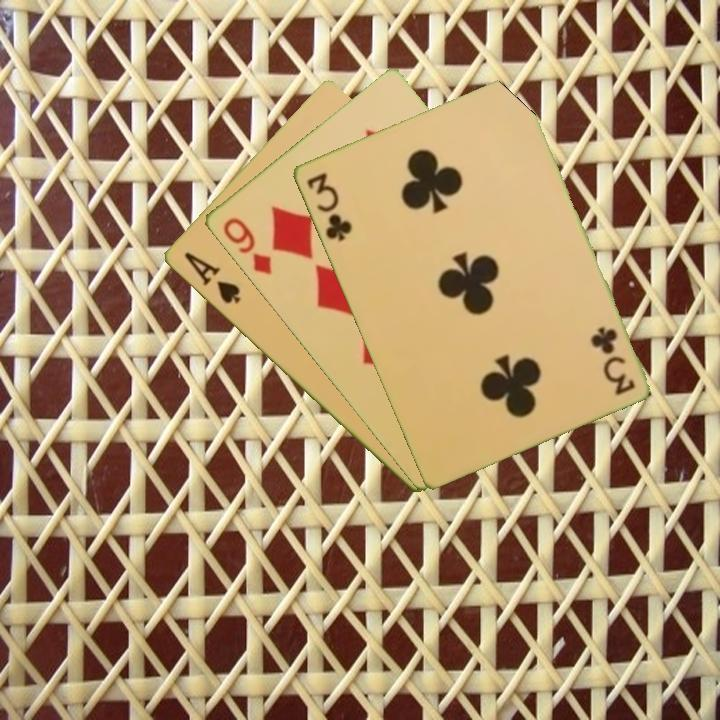3c: (303, 169, 355, 244), (588, 323, 637, 398)
9d: (218, 214, 274, 278)
As: (180, 248, 244, 307)
